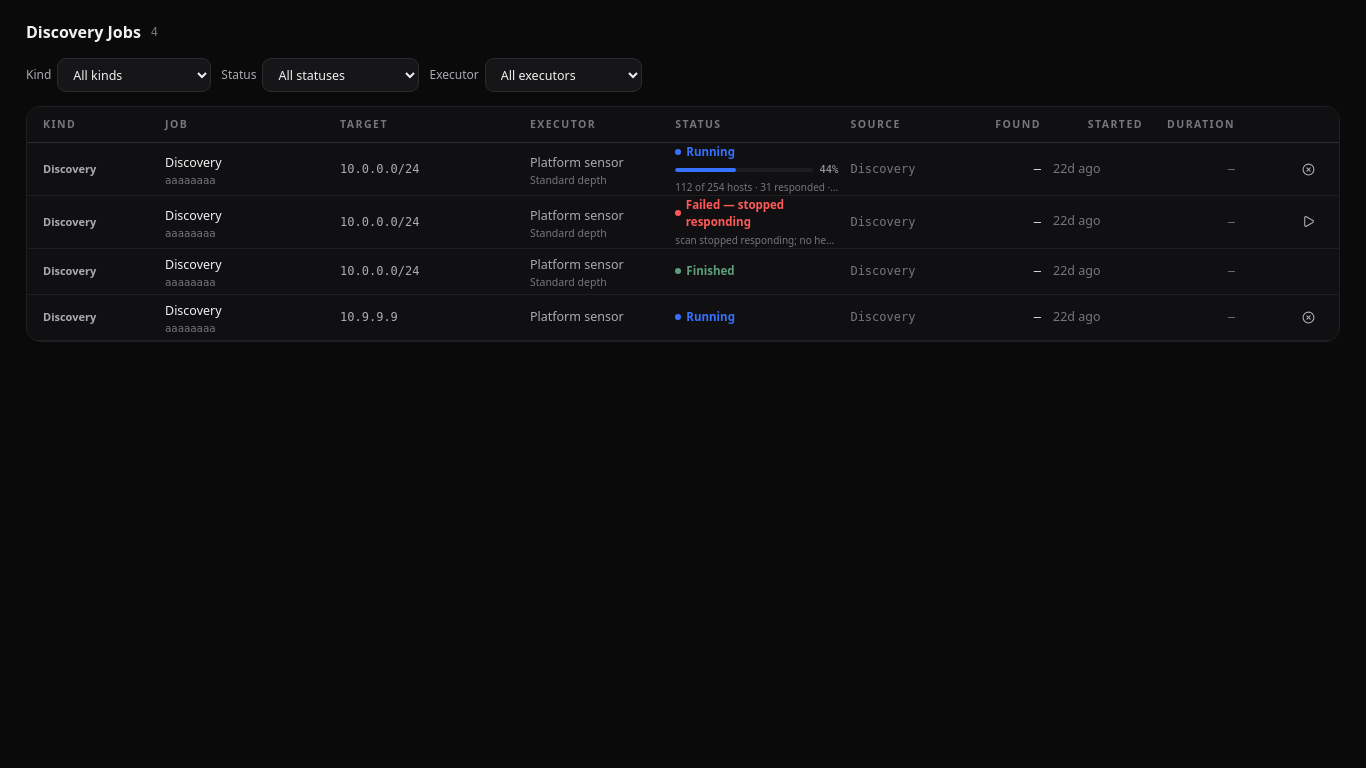
Scenario: resume › a 409 refusal is shown in the server's words and the dialog stays open
Click the button named "Resume scan — runs again only what it had not finished; fini": (1308, 222) [1294,208,1323,236]
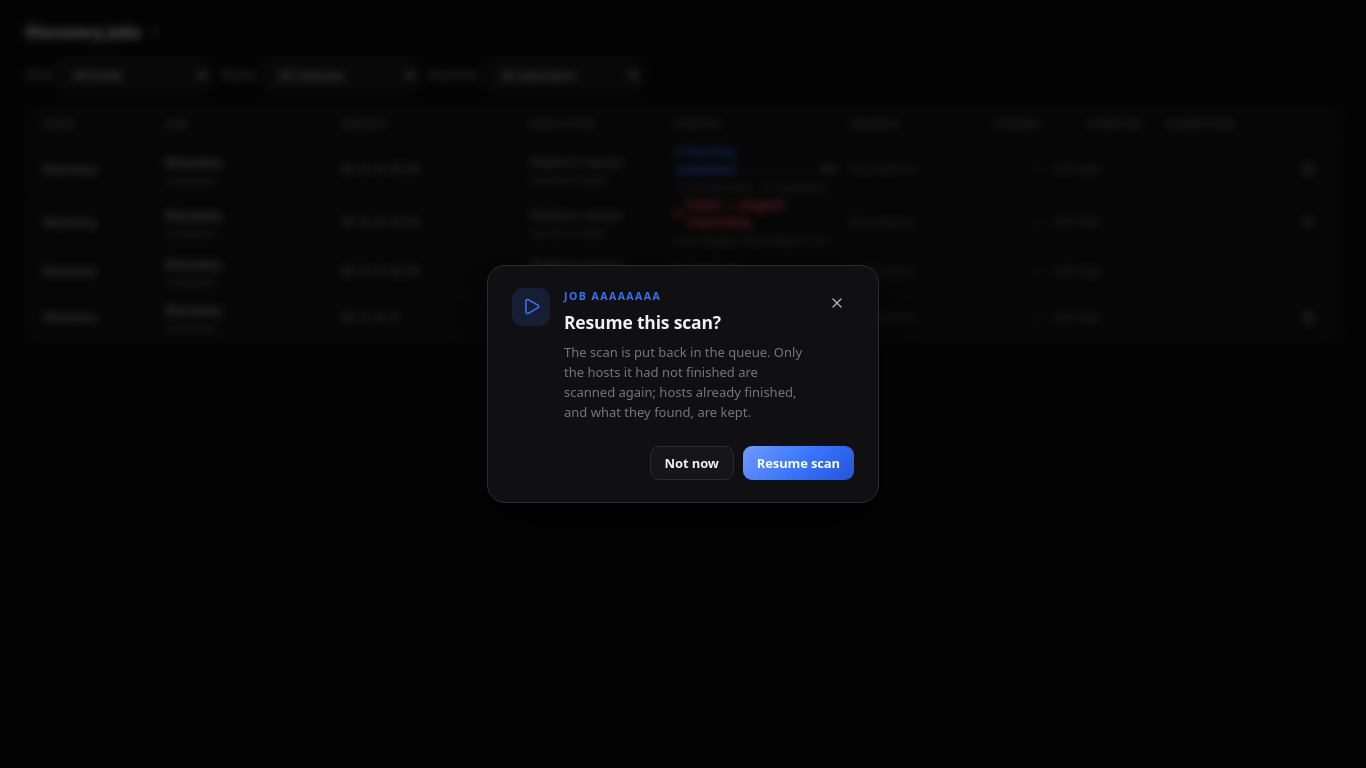
Now the dialog named "Resume this scan?" shows "Only the hosts it had not finished are scanned again; hosts already finished, and what they found, are kept.", box [564,343,802,421]
Click the button "Resume scan": (798, 463) [743,446,854,480]
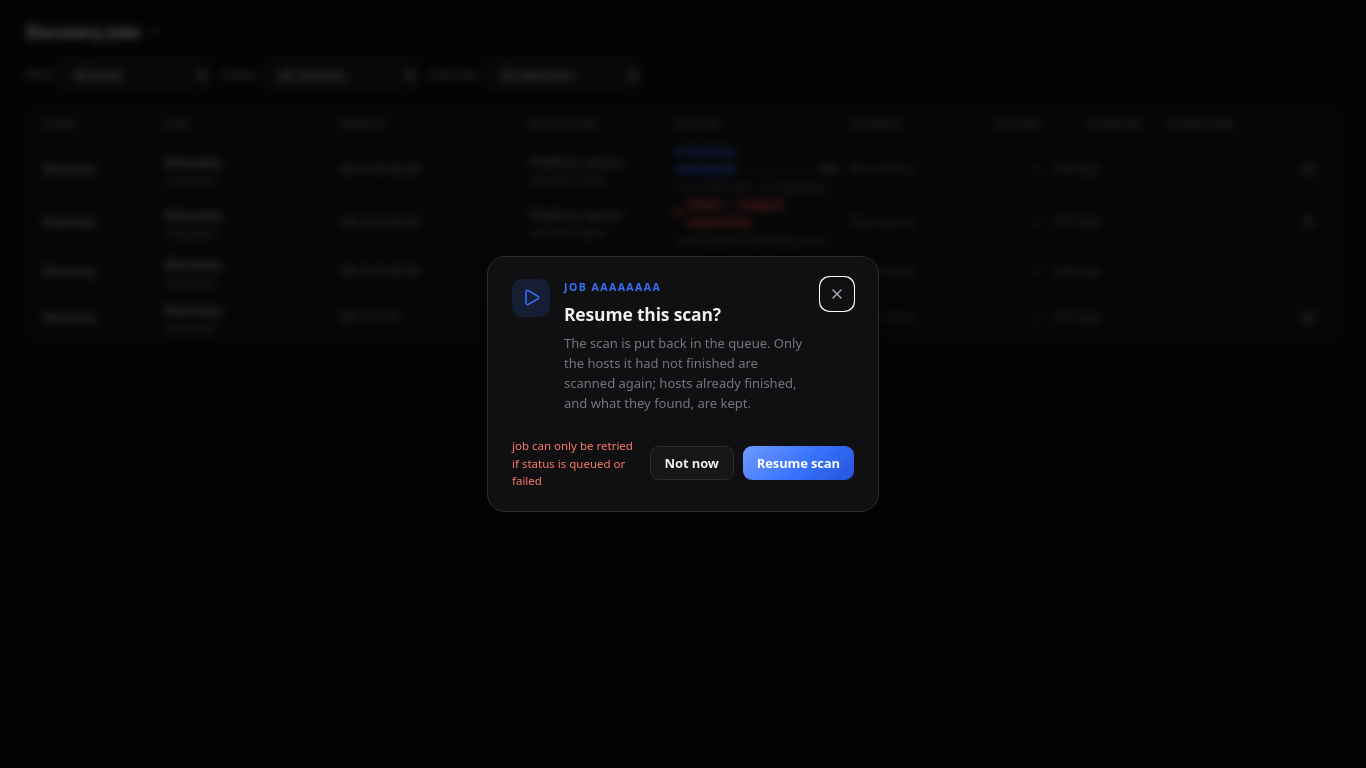
Now the dialog named "Resume this scan?" is shown, box [487,256,879,512]
Now the message "job can only be retried if status is queued or failed" is shown, box [512,438,633,488]
